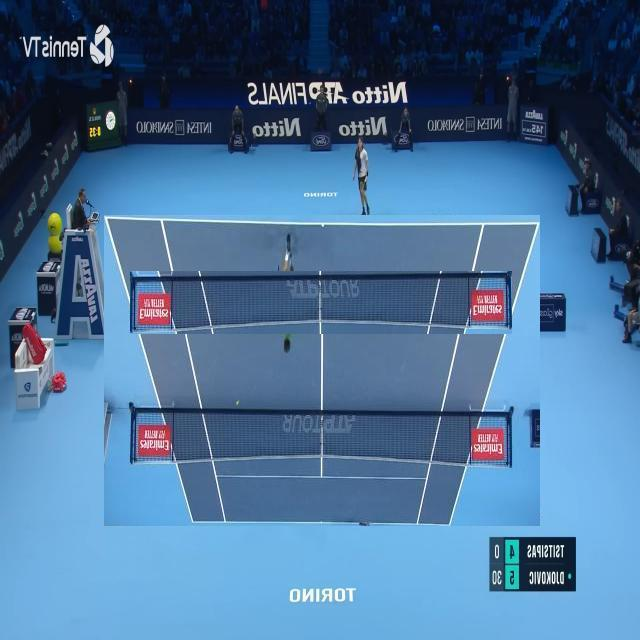court: (104, 215, 540, 526)
net: (130, 272, 512, 336)
player: (276, 386, 306, 508)
